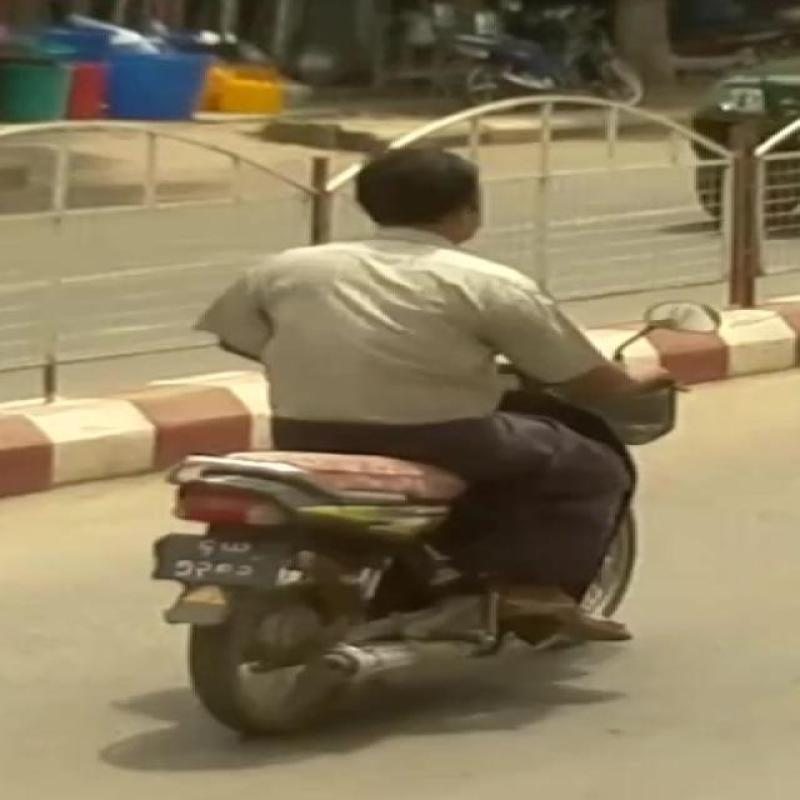nohelmet: (350, 127, 542, 262)
